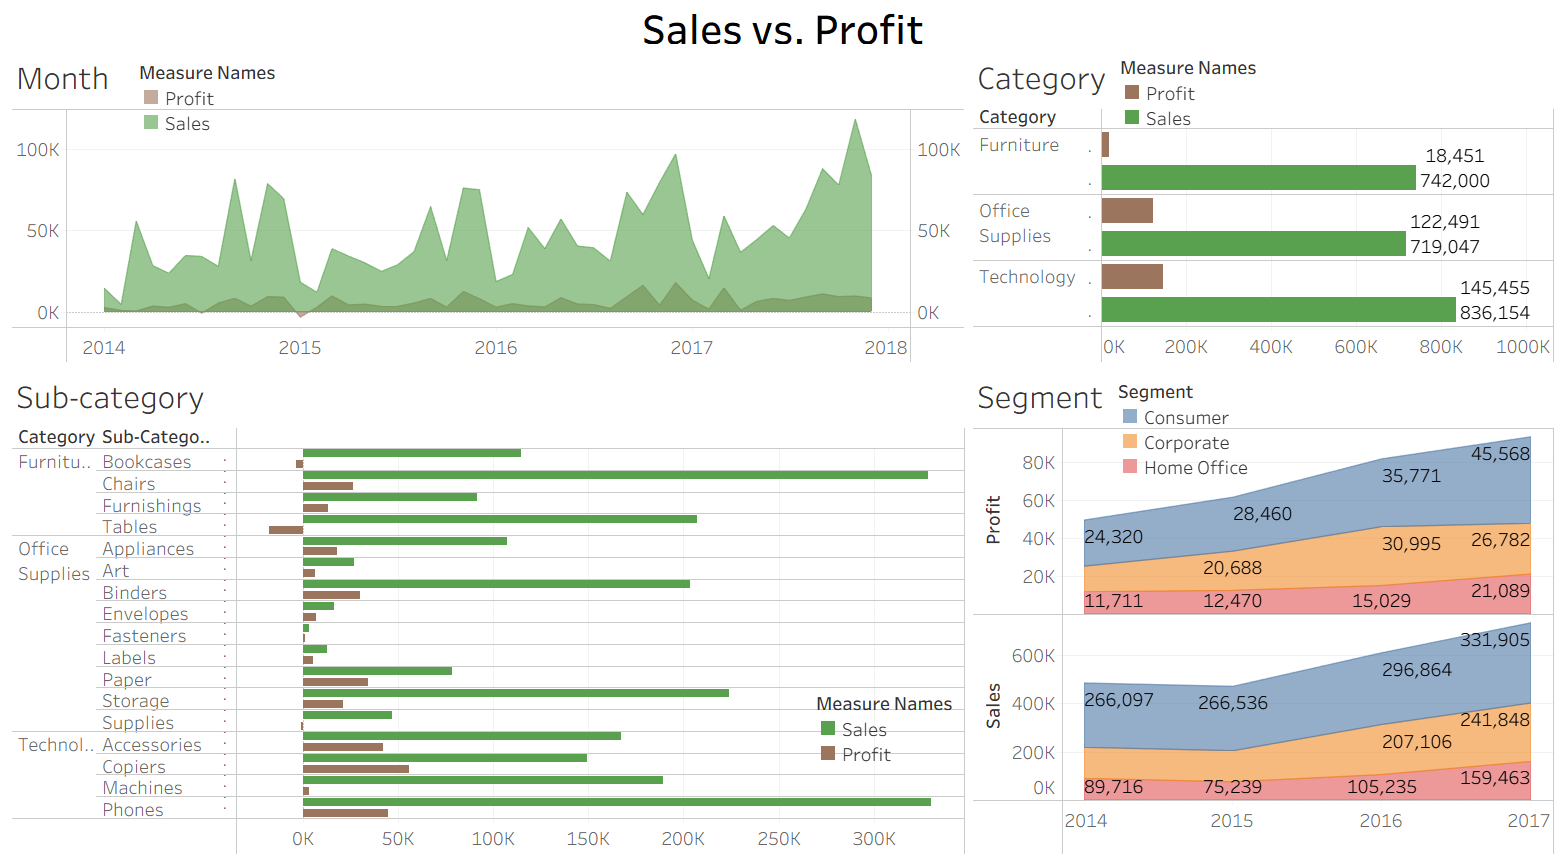

Layout of this report page (visuals, bound fields, positions):
{"tool":"tableau","page":{"name":"Sale vs. Profit","canvas":[1566,868],"ordinal":2},"visuals":[{"type":"text","box":[8,8,1550,41]},{"type":"worksheet","title":"Month (2)","mark":"Area","rows":["Profit","Sales"],"cols":["Order Date"],"box":[8,49,960.9,319]},{"type":"worksheet","title":"Category (2)","mark":"Automatic","rows":["Category"],"box":[968.9,49,589.1,319]},{"type":"legend","title":"Category (2)","param":"[federated.1he7qs112cn0321eepdp601evxoy].[:Measure Names]","box":[1120,55,140,76]},{"type":"legend","title":"Month (2)","param":"[federated.1he7qs112cn0321eepdp601evxoy].[:Measure Names]","box":[139,60,140,76]},{"type":"worksheet","title":"Sub-cat (2)","mark":"Automatic","rows":["Category","Sub-Category"],"box":[8,368,960.9,492]},{"type":"worksheet","title":"Segment (2)","mark":"Area","rows":["Profit","Sales"],"cols":["Order Date"],"box":[968.9,368,589.1,492]},{"type":"legend","title":"Segment (2)","param":"[federated.1he7qs112cn0321eepdp601evxoy].[none:Segment:nk]","box":[1118,379,140,101]},{"type":"legend","title":"Sub-cat (2)","param":"[federated.1he7qs112cn0321eepdp601evxoy].[:Measure Names]","box":[816,691,140,76]}]}

Visuals, with their boxes in screenshot pixels (x1, y1, x2, y2), scaled from the page's 1566x868 canvas onto the 1564x859 screenshot:
text: box(8, 8, 1556, 48)
"Month (2)" worksheet (Area marks): box(8, 48, 968, 364)
"Category (2)" worksheet: box(968, 48, 1556, 364)
"Category (2)" legend: box(1119, 54, 1258, 130)
"Month (2)" legend: box(139, 59, 279, 135)
"Sub-cat (2)" worksheet: box(8, 364, 968, 851)
"Segment (2)" worksheet (Area marks): box(968, 364, 1556, 851)
"Segment (2)" legend: box(1117, 375, 1256, 475)
"Sub-cat (2)" legend: box(815, 684, 955, 759)
